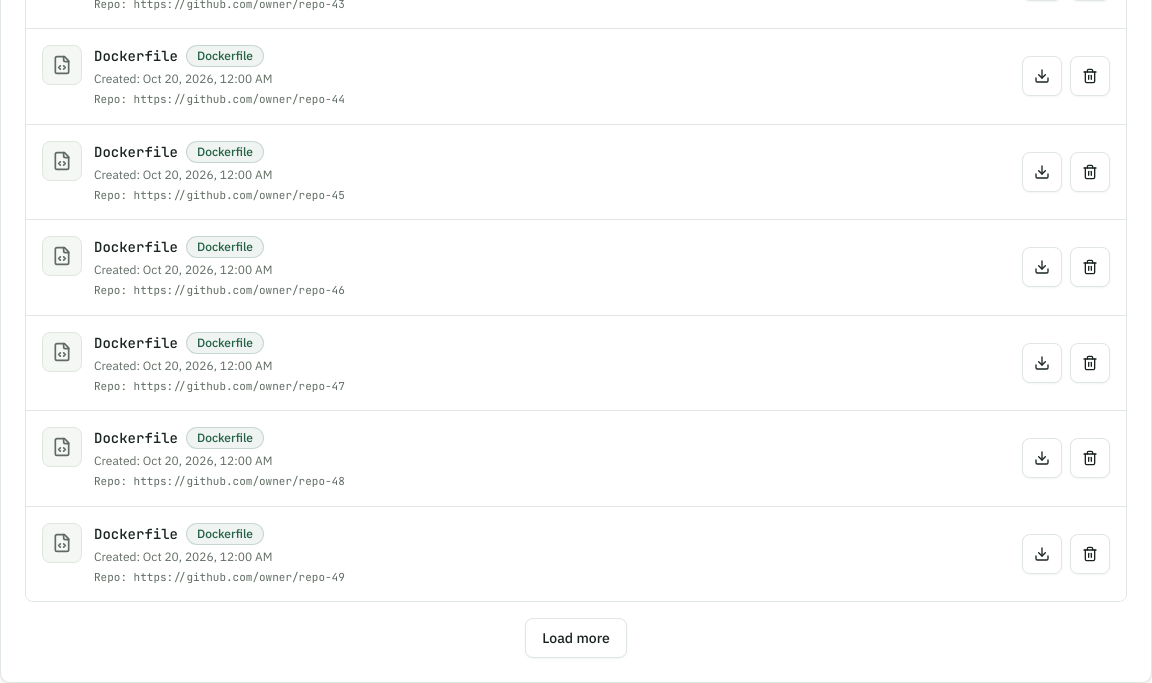
SavedFiles › appends the next page without repeating an overlapping file id
(page scrolled)
Click the button "Load more": (576, 638) [525,618,627,658]
(page scrolled)
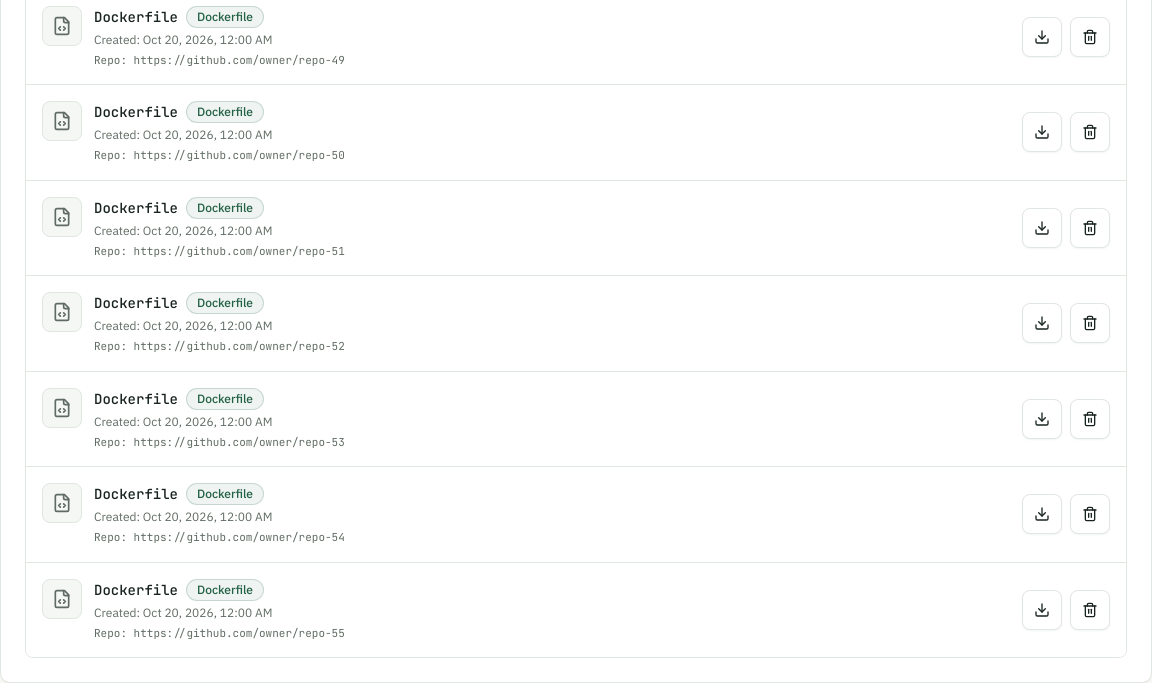
Expected: the button named "Download Dockerfile from owner/repo-55" is shown, [1022,590,1062,630]
Expected: the number of buttons named "Download Dockerfile from owner/repo-49" is 1, [1022,17,1062,57]
Expected: the button "Load more" is gone
